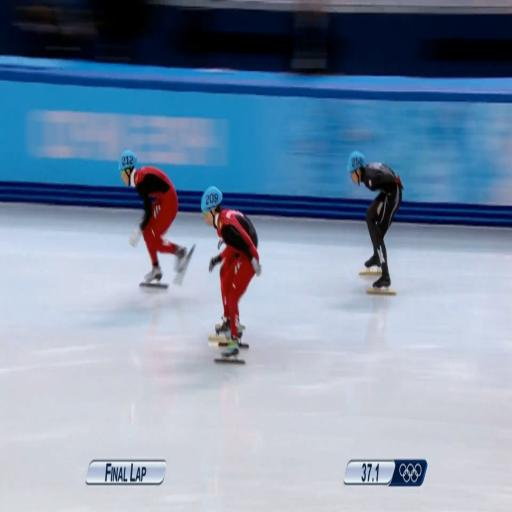Skater: (202, 187, 261, 363), (119, 150, 194, 284), (348, 151, 402, 293)
